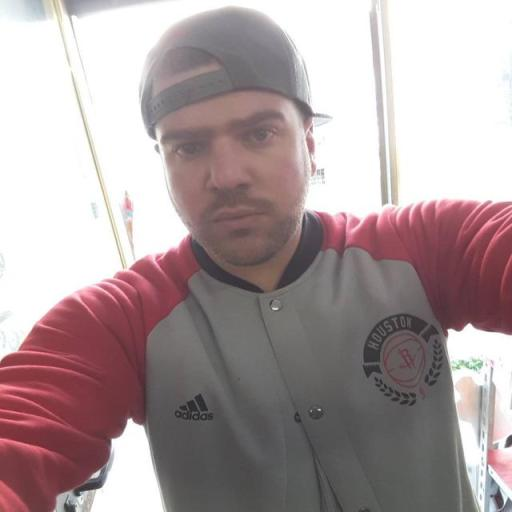Adidas: (172, 390, 215, 424)
